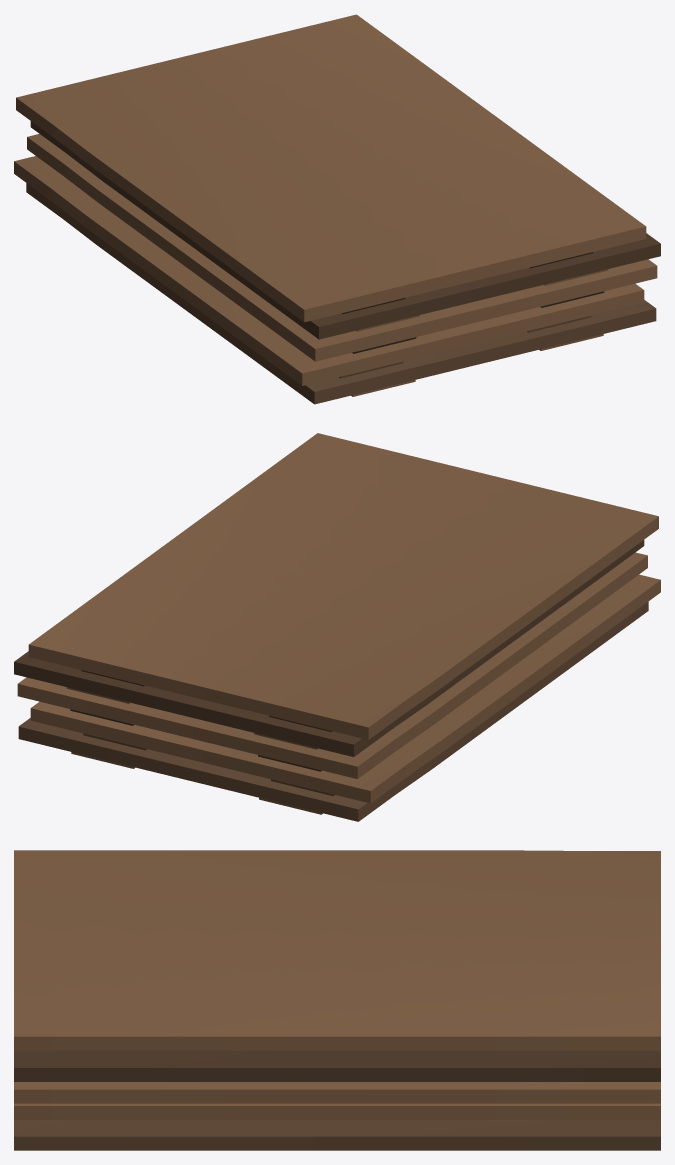
The model's file is Multiple Small Mid Crate Lids.fbx.
3 renders of one model, top to bottom at view 1: azimuth 30°, elevation 25°; view 2: azimuth 150°, elevation 25°; view 3: azimuth 270°, elevation 25°, orthographic. The views are drawn at different scales.
Parts seen in each view (by area): view 1: Small Multiple Mid Crate Lids; view 2: Small Multiple Mid Crate Lids; view 3: Small Multiple Mid Crate Lids.
Boxes of the visible parts, bbox=[...] form: Small Multiple Mid Crate Lids: bbox=[14, 14, 660, 404]; Small Multiple Mid Crate Lids: bbox=[14, 433, 660, 821]; Small Multiple Mid Crate Lids: bbox=[14, 850, 660, 1150].
Size of the model in its own units: 41.19 by 204 by 146.
Materials: 1 (1 with a texture image).
